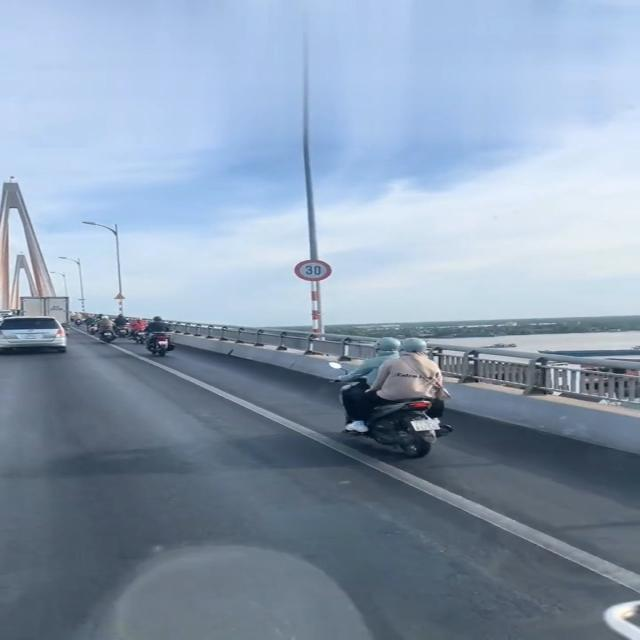127-toc-do-toi-da-30: (293, 259, 333, 282)
